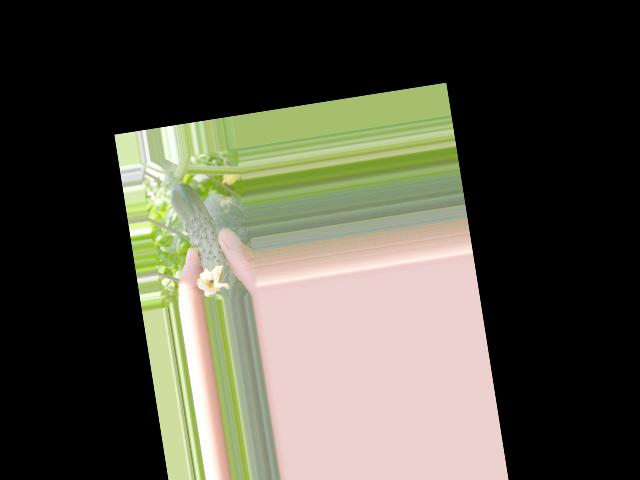cucumber: (168, 177, 230, 298)
